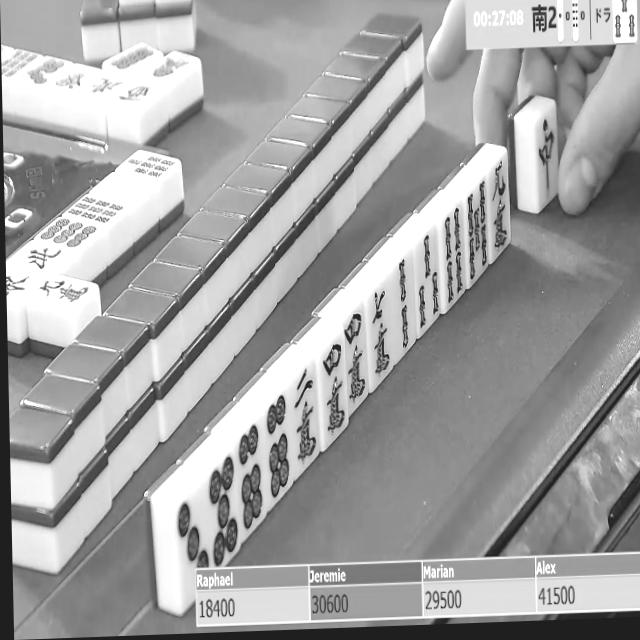2B: (389, 254, 417, 357)
2C: (290, 362, 322, 473)
3B: (414, 230, 444, 336), (613, 0, 638, 44)
3D: (174, 491, 210, 570)
4B: (442, 207, 469, 312)
4C: (318, 337, 349, 443), (342, 305, 372, 409)
5B: (463, 182, 491, 286)
5D: (208, 453, 242, 572)
6D: (236, 417, 268, 536), (263, 390, 295, 507)
7C: (367, 284, 398, 383)
9C: (27, 273, 95, 310), (490, 154, 510, 254)
RD: (535, 109, 559, 200)
